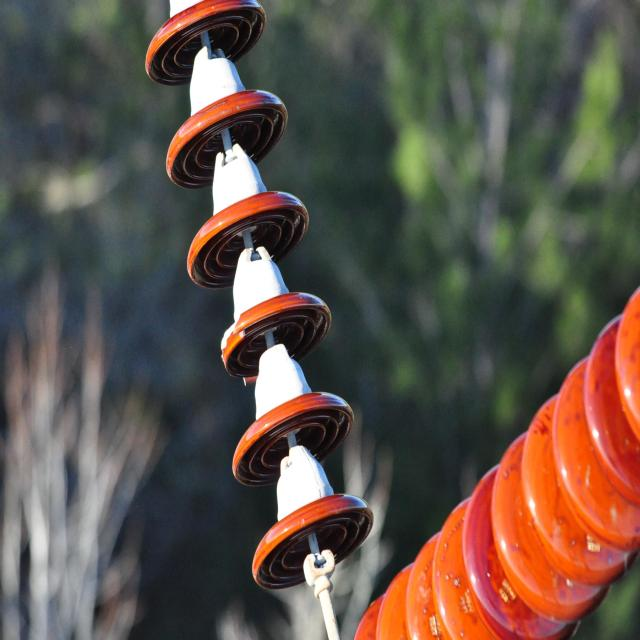broken: (219, 315, 248, 395)
insulator: (144, 3, 372, 593), (353, 283, 640, 637)
